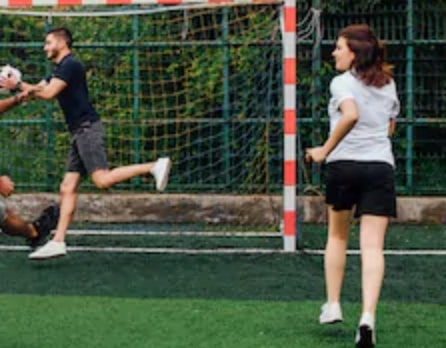Good: (22, 25, 402, 348)
